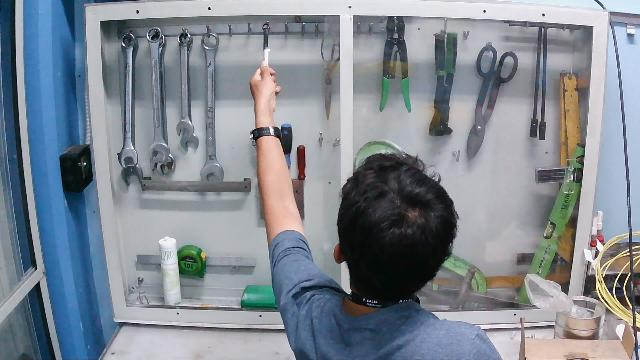kunci_pass_13: (245, 17, 289, 104)
